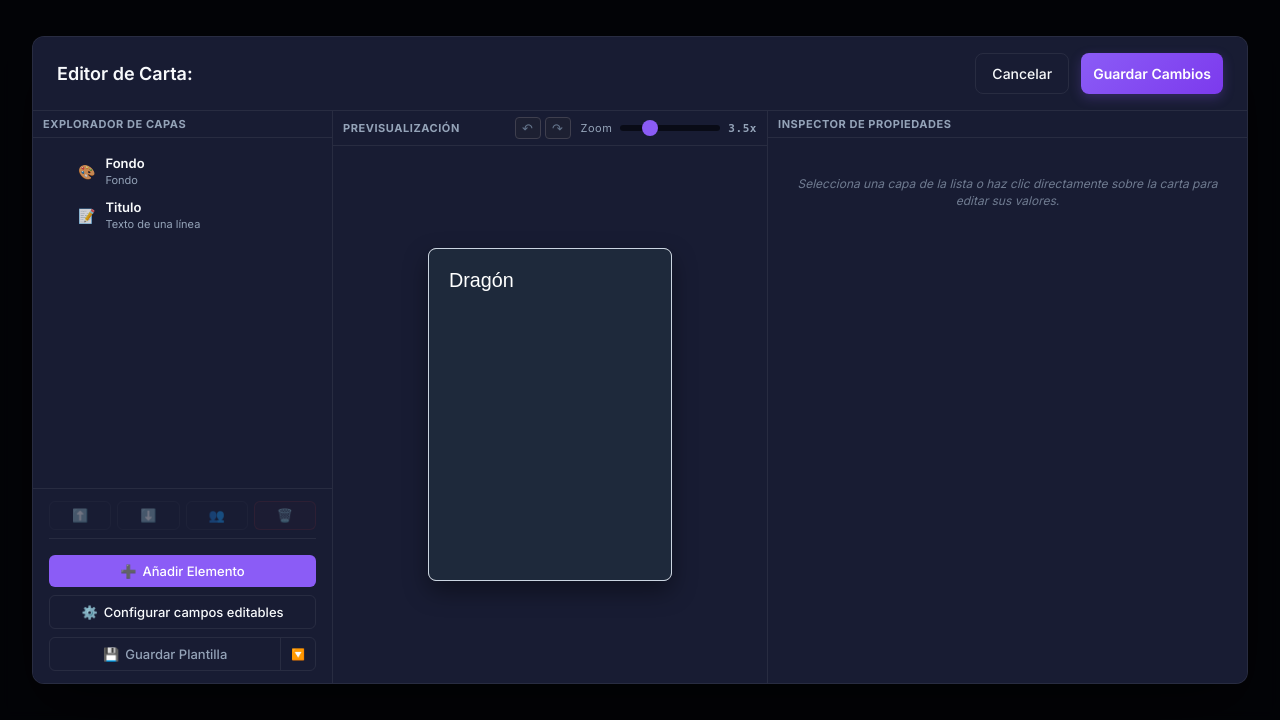
Test: SRS-083: Densidad Visual e Inspector Compacto en Modal de Edición de Carta › RF-3 y RF-4: renderiza las propiedades del inspector en tablas densas multi-celda (.inspector-table / .inspector-cell) y conserva toda la funcionalidad interact
Step 1. Click the element with class "hierarchy-item" showing "📝 Titulo Texto de una línea" → (139, 215), box [78,199,200,231]
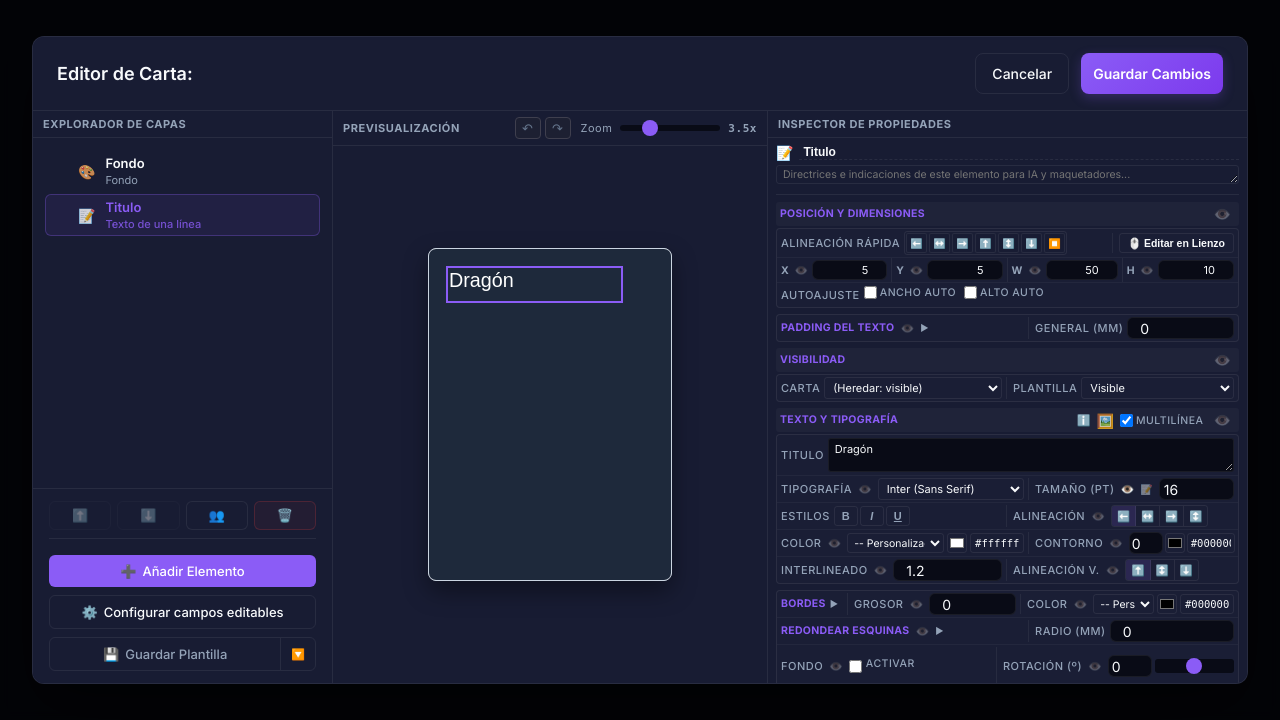
Now the element with class "inspector-field-label" showing "Alineación Rápida" is shown, box [781,237,900,249]
Now the element with class "inspector-field-control" showing "⬅️ ↔️ ➡️ ⬆️ ↕️ ⬇️ ⏹️" is shown, box [904,231,1067,255]
Now the colour field with class "color-picker-input" next to "Contorno" is shown, box [947,533,967,553]
Step 2. Click the button with class "exposed-desc-trigger-btn" → (1147, 489), box [1138,484,1155,495]
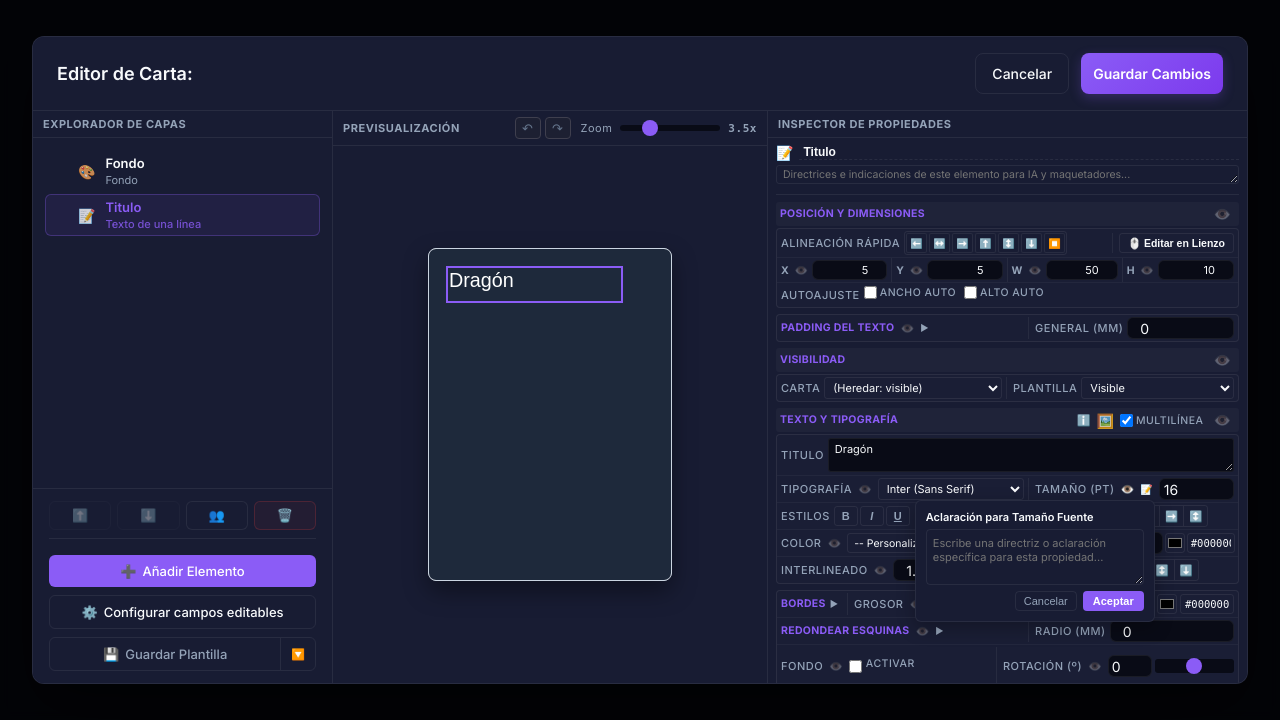
Now the element with class "exposed-desc-popover" is shown, box [915,500,1155,622]
